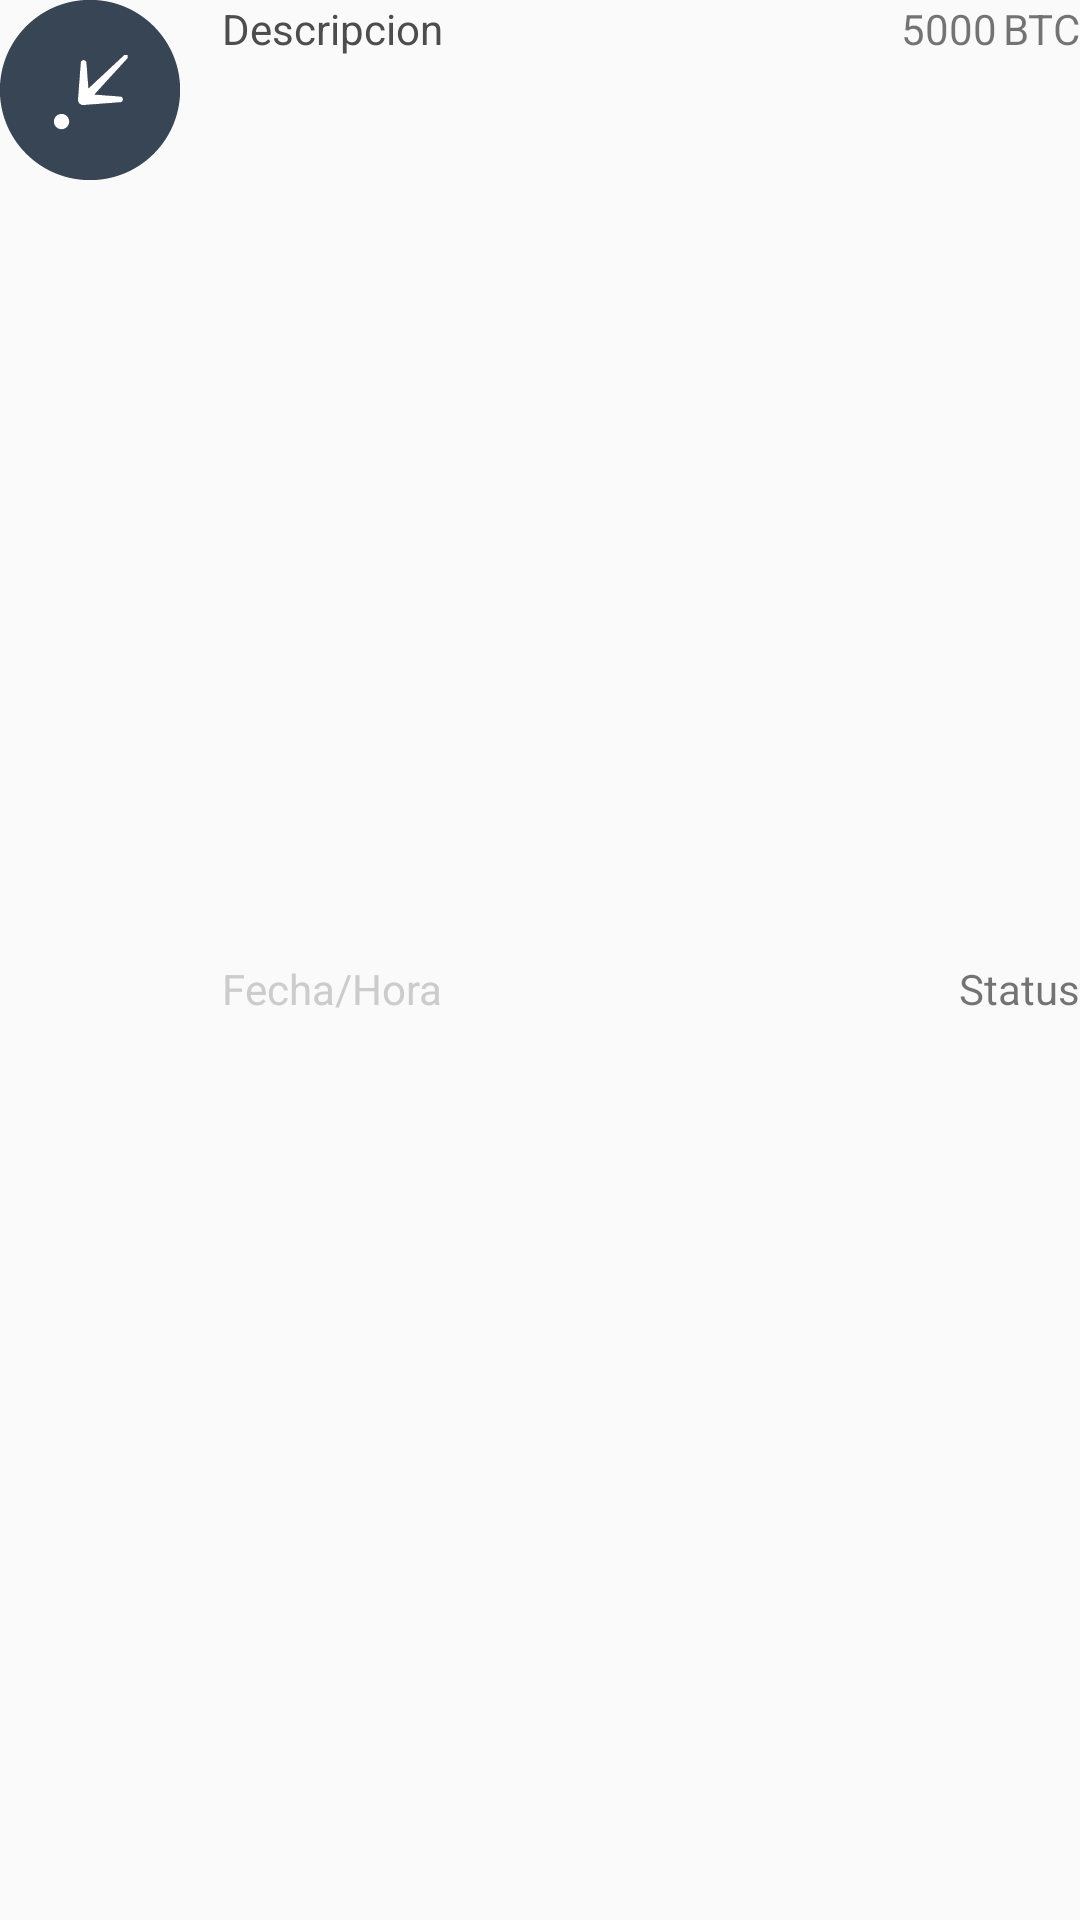

Named icons in this screenshot (1080px×1920px) and their bounding boxes, (x1, y1, x2, y2):
fondear: (0, 0, 180, 180)
